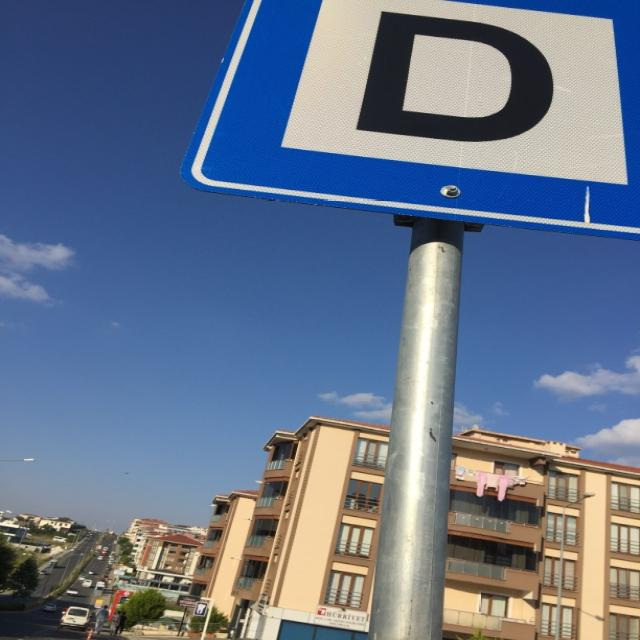durak: (176, 0, 640, 244)
